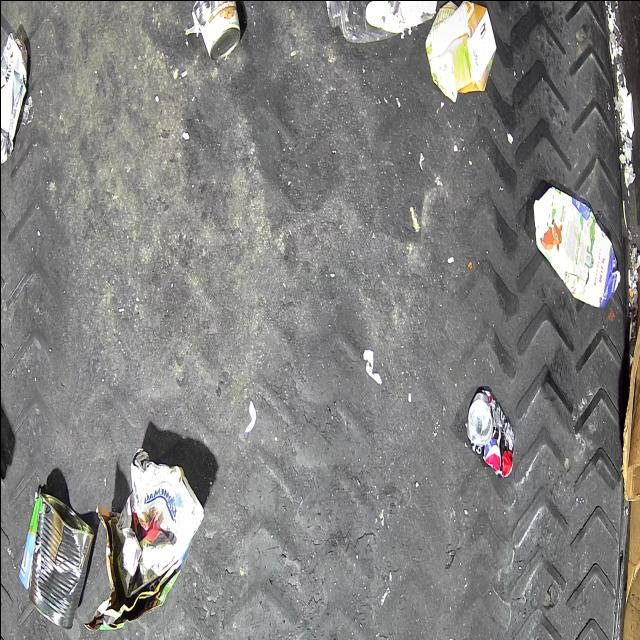can: (26, 492, 94, 630), (466, 387, 514, 477), (0, 31, 27, 167), (191, 0, 240, 59)
non_white_jug: (533, 186, 619, 308), (424, 1, 496, 102)
plastic_bottle: (324, 0, 436, 43)
